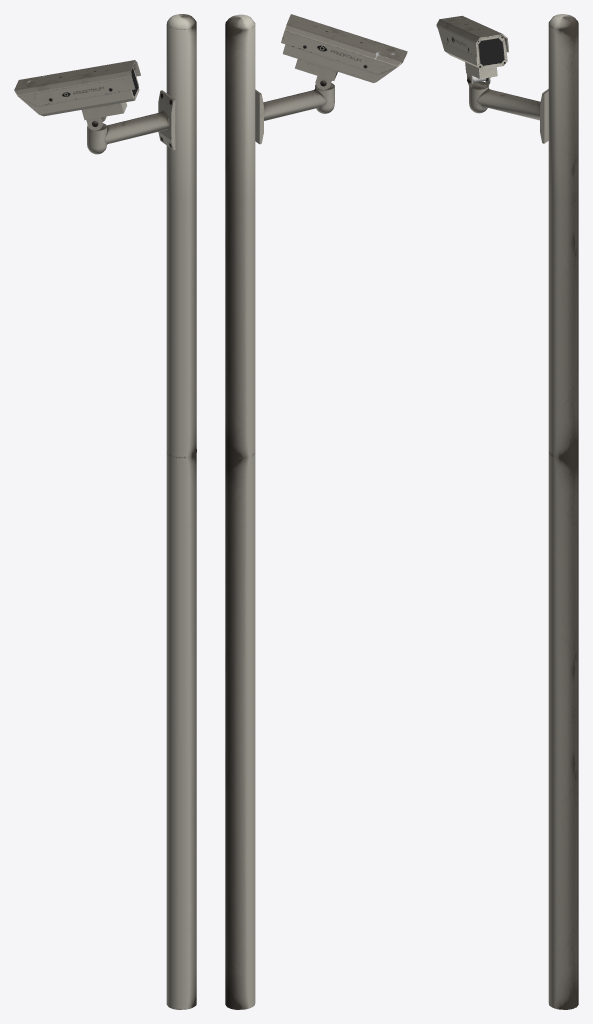
File: sm_cctv_camera_001.FBX
3 renders of one model, left to right at view 1: azimuth 30°, elevation 25°; view 2: azimuth 210°, elevation 25°; view 3: azimuth 330°, elevation 25°, orthographic.
Visible parts, largest first — view 1: sm_cctv_camera_001; view 2: sm_cctv_camera_001; view 3: sm_cctv_camera_001.
Part boxes in pixels (x1,y1,x2,y2): sm_cctv_camera_001: (14,14,196,1009); sm_cctv_camera_001: (225,14,407,1009); sm_cctv_camera_001: (436,14,578,1009).
Size of the model in its own units: 126 by 747 by 70.3.
